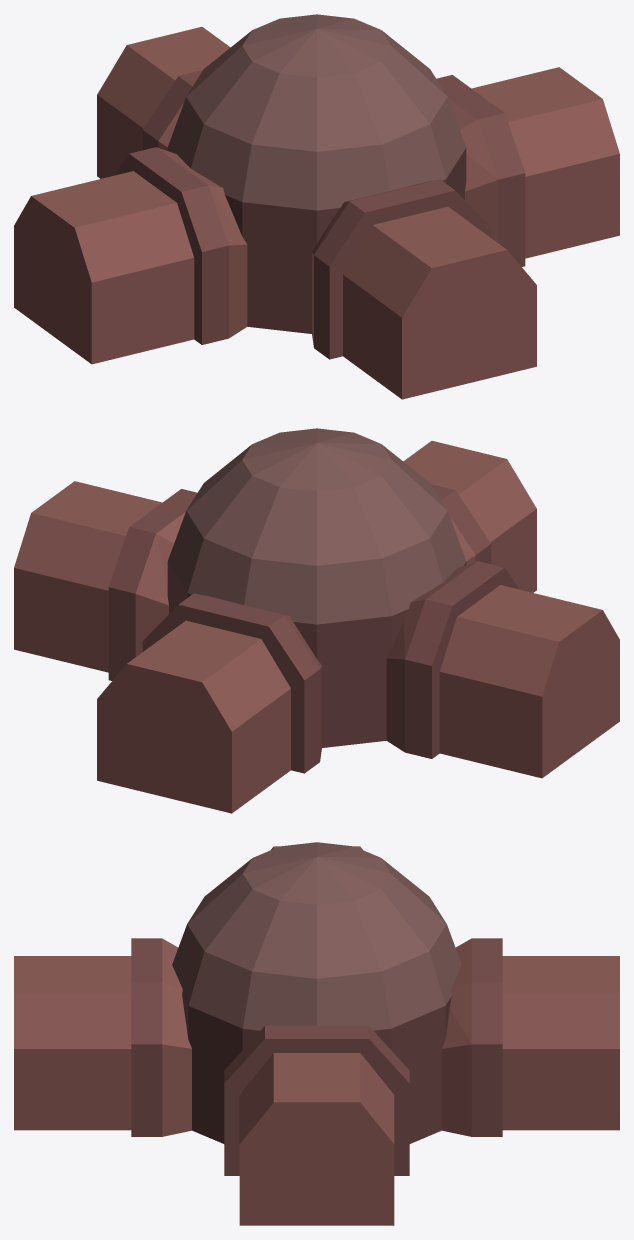
File: vce_valve_chem_on.obj
3 views of the same model, one above another, from view 1: azimuth 30°, elevation 25°; view 2: azimuth 150°, elevation 25°; view 3: azimuth 270°, elevation 25° (orthographic).
Bounding box in the file's own units: 0.98 × 0.43 × 0.98.
